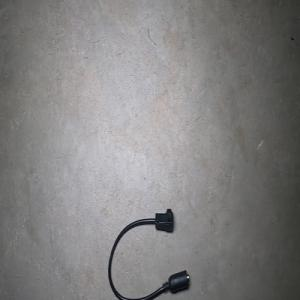Wire: (108, 208, 189, 300)
